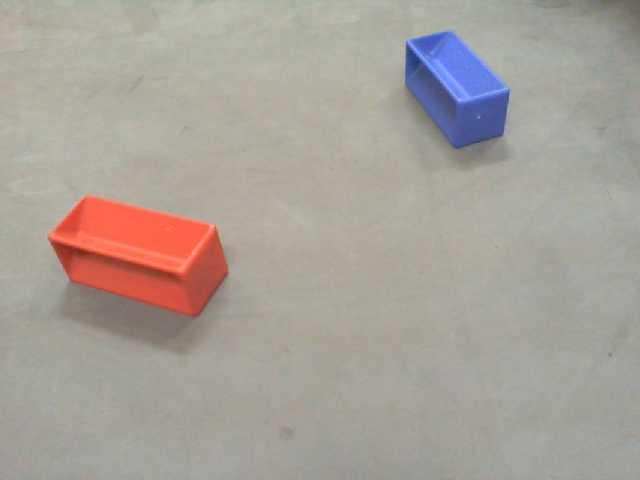BlueSample: (398, 27, 514, 163)
RedSample: (46, 192, 236, 324)
